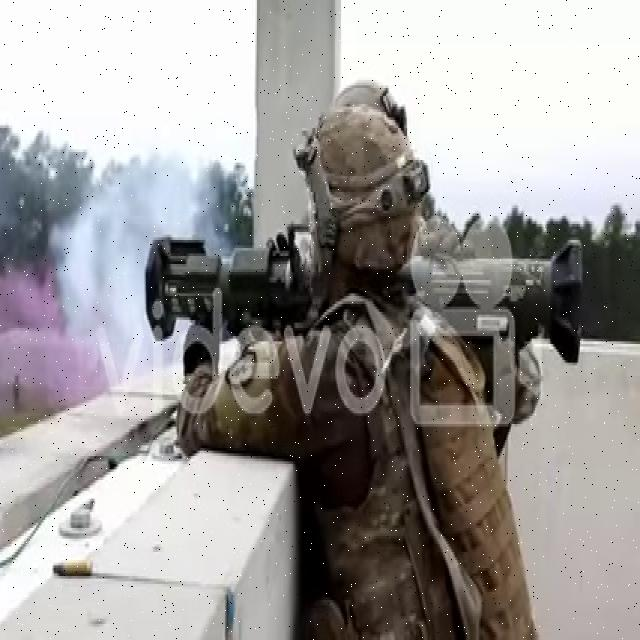bazooka: (137, 220, 595, 374)
